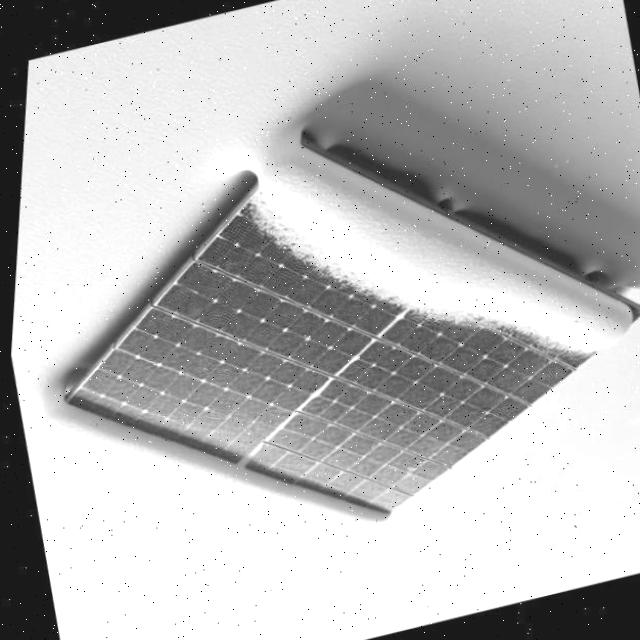Anomaly Solar Panel: (43, 110, 638, 625)
Snow: (224, 140, 633, 416), (41, 404, 387, 553)
